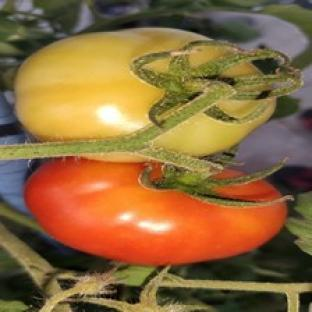Tomato: (26, 158, 286, 264), (16, 28, 210, 140)
